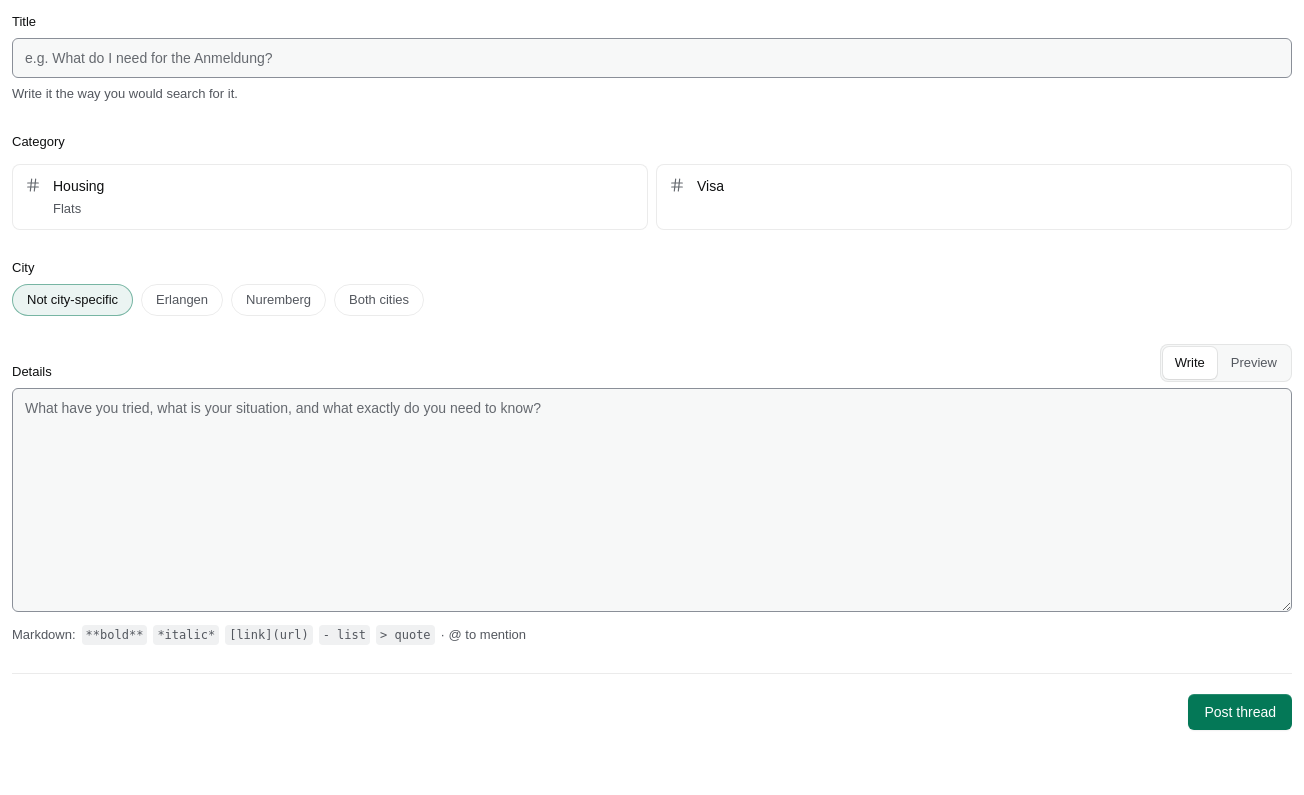
Test: ThreadForm errors › shows the form error and field error
Click the button "Post thread" at (1240, 712), box [1188,694,1292,730]
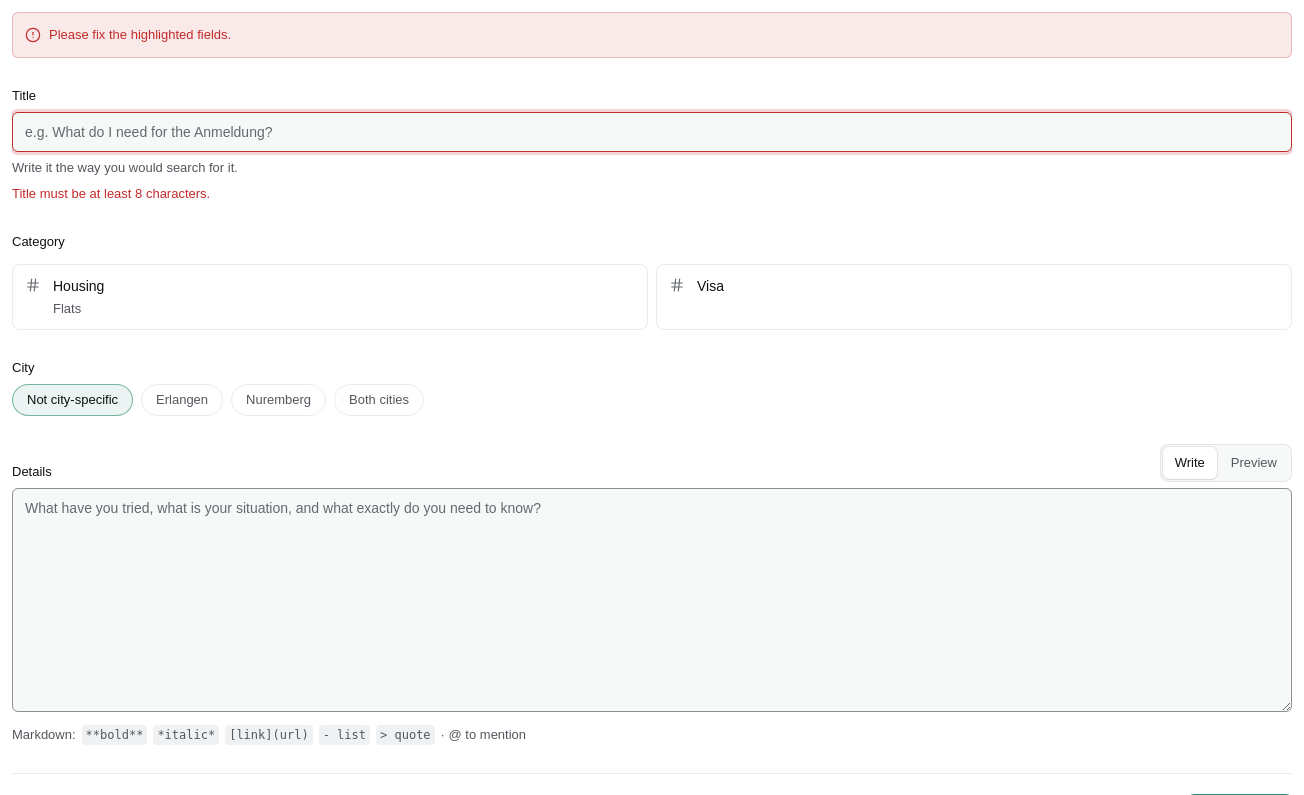
Expected: the text "Title must be at least 8 characters." is shown, [12,186,210,201]
